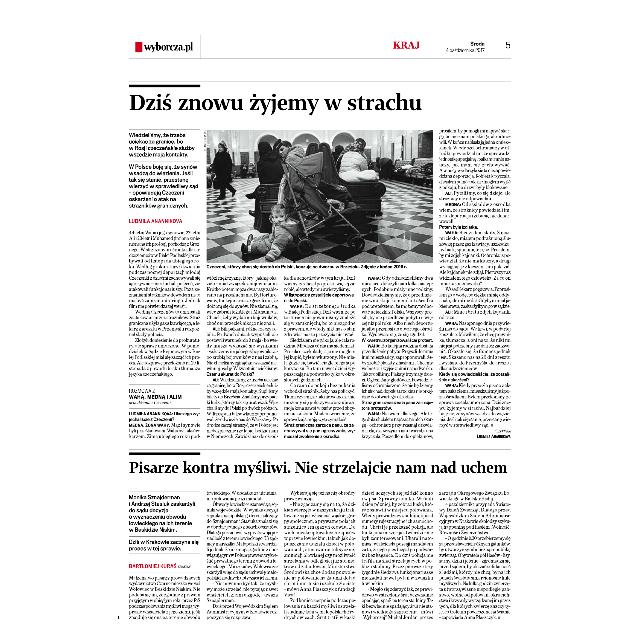article: (127, 83, 515, 444), (128, 452, 512, 628)
